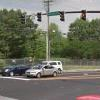Traffic light: (15, 9, 97, 26)
